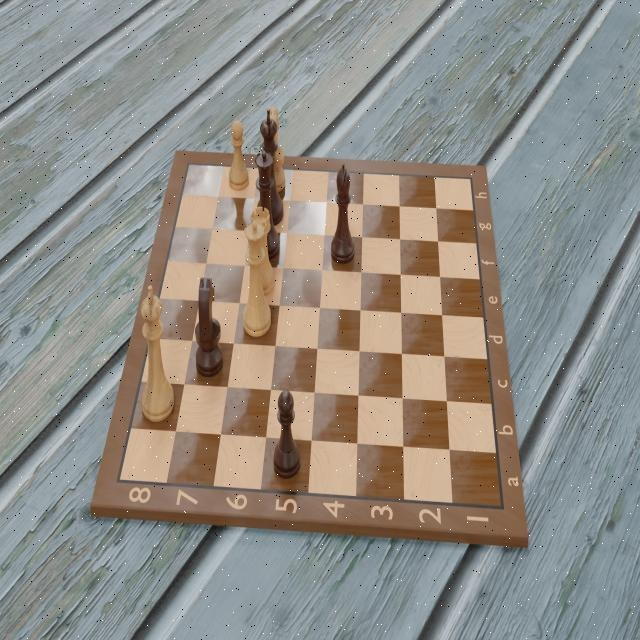black-bishop: (328, 161, 359, 272)
black-king: (255, 106, 285, 229)
black-knight: (192, 268, 227, 380), (259, 104, 289, 197)
black-pawn: (270, 385, 304, 483)
black-queen: (251, 144, 281, 267)
white-king: (137, 283, 179, 429)
white-pawn: (226, 118, 250, 193)
white-queen: (240, 209, 276, 343)
white-rook: (247, 201, 276, 303)
